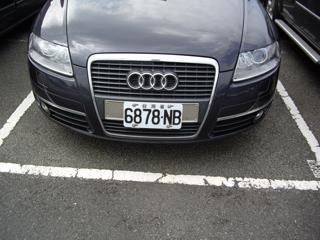plate: (122, 99, 183, 131)
